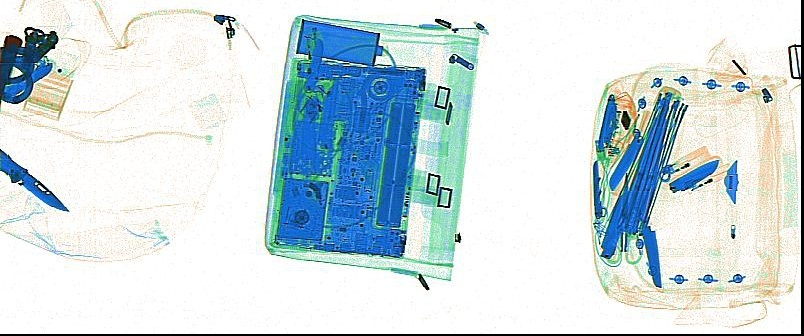handcuffs: (1, 27, 57, 104)
knife: (1, 148, 70, 213), (631, 178, 663, 289), (598, 190, 632, 261), (1, 59, 52, 102), (668, 155, 719, 193), (608, 135, 643, 189), (301, 38, 324, 92), (597, 92, 616, 152), (590, 158, 605, 217)
lighter: (660, 146, 710, 179), (682, 163, 730, 194)
scissors: (604, 171, 643, 263)
zippooil: (293, 17, 382, 65)
